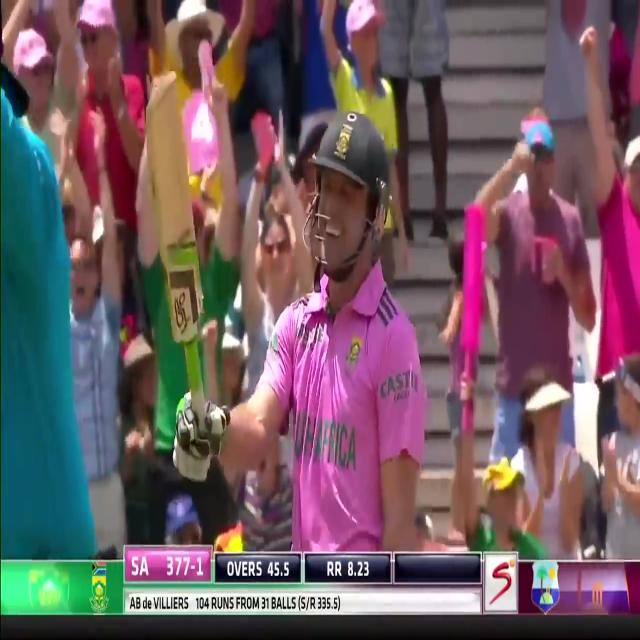Ball: (204, 106, 435, 555)
